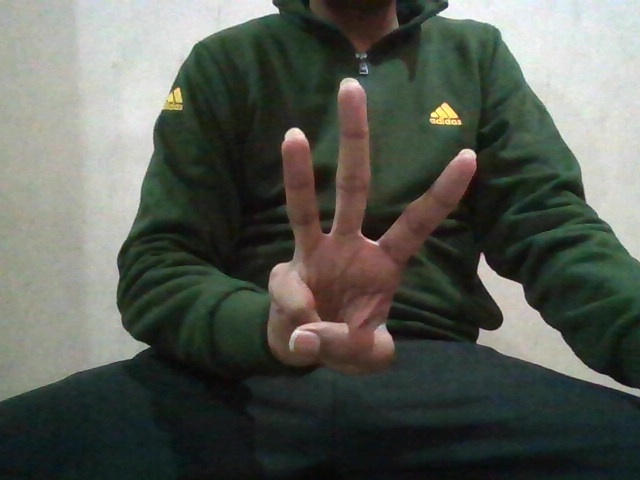W: (267, 80, 476, 378)
